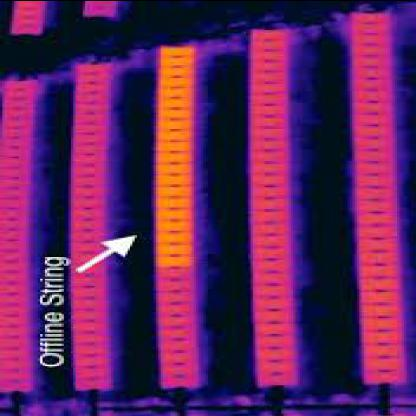Defects: (152, 243, 192, 254), (154, 255, 190, 263), (158, 232, 186, 242), (161, 222, 189, 230)
